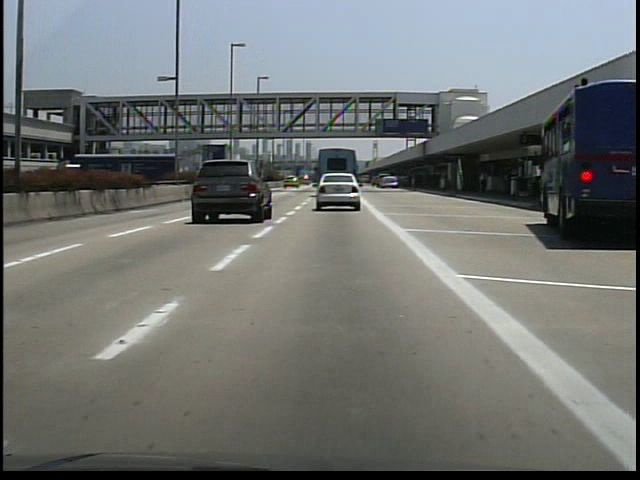person: (474, 164, 495, 201)
